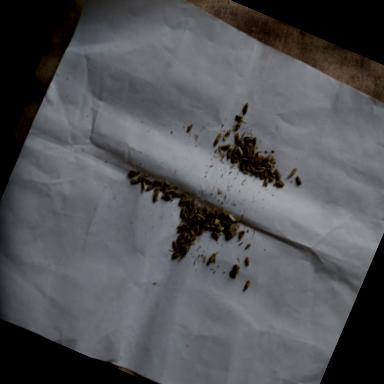pbw: (204, 250, 217, 268), (226, 224, 240, 240), (164, 182, 178, 196), (218, 140, 232, 154), (136, 174, 152, 186), (212, 132, 223, 148), (232, 118, 242, 134), (240, 102, 250, 118), (160, 191, 173, 203), (144, 182, 156, 195), (287, 166, 298, 180), (234, 229, 245, 243), (220, 128, 231, 142), (150, 188, 160, 203), (292, 174, 304, 186), (216, 208, 228, 220), (226, 222, 238, 234), (256, 164, 268, 176), (171, 249, 182, 262), (177, 206, 187, 220), (260, 174, 270, 188), (242, 278, 252, 292), (180, 246, 190, 260), (176, 219, 187, 231), (176, 228, 186, 240), (231, 264, 241, 276), (232, 132, 242, 144), (272, 179, 284, 189), (186, 237, 196, 248), (168, 240, 178, 251), (224, 148, 233, 160), (128, 168, 140, 177), (186, 198, 195, 210), (242, 134, 254, 143), (201, 214, 211, 224), (235, 146, 245, 156), (248, 168, 258, 178), (226, 212, 236, 222), (130, 177, 140, 187), (220, 217, 231, 226), (250, 136, 258, 148), (152, 178, 162, 187), (186, 228, 196, 237), (195, 213, 206, 221), (193, 225, 201, 236), (187, 210, 195, 221), (176, 225, 184, 236), (188, 199, 196, 209), (183, 207, 191, 217), (200, 222, 210, 230), (182, 230, 190, 240), (139, 181, 147, 191), (212, 217, 222, 225), (238, 162, 246, 171), (239, 156, 248, 164), (231, 216, 240, 224), (242, 146, 251, 154), (266, 169, 274, 177), (182, 213, 190, 221), (243, 258, 250, 267), (198, 226, 204, 236), (260, 162, 270, 168), (233, 154, 240, 162), (230, 156, 237, 164), (192, 218, 200, 225), (182, 219, 188, 228), (258, 172, 264, 181), (179, 242, 186, 249), (209, 216, 215, 224), (210, 210, 216, 218), (246, 142, 254, 148), (174, 246, 180, 254), (252, 164, 260, 170), (242, 170, 249, 176), (184, 224, 191, 230), (248, 165, 254, 171), (210, 224, 216, 230), (255, 152, 260, 158), (250, 150, 255, 156), (194, 216, 201, 220)
